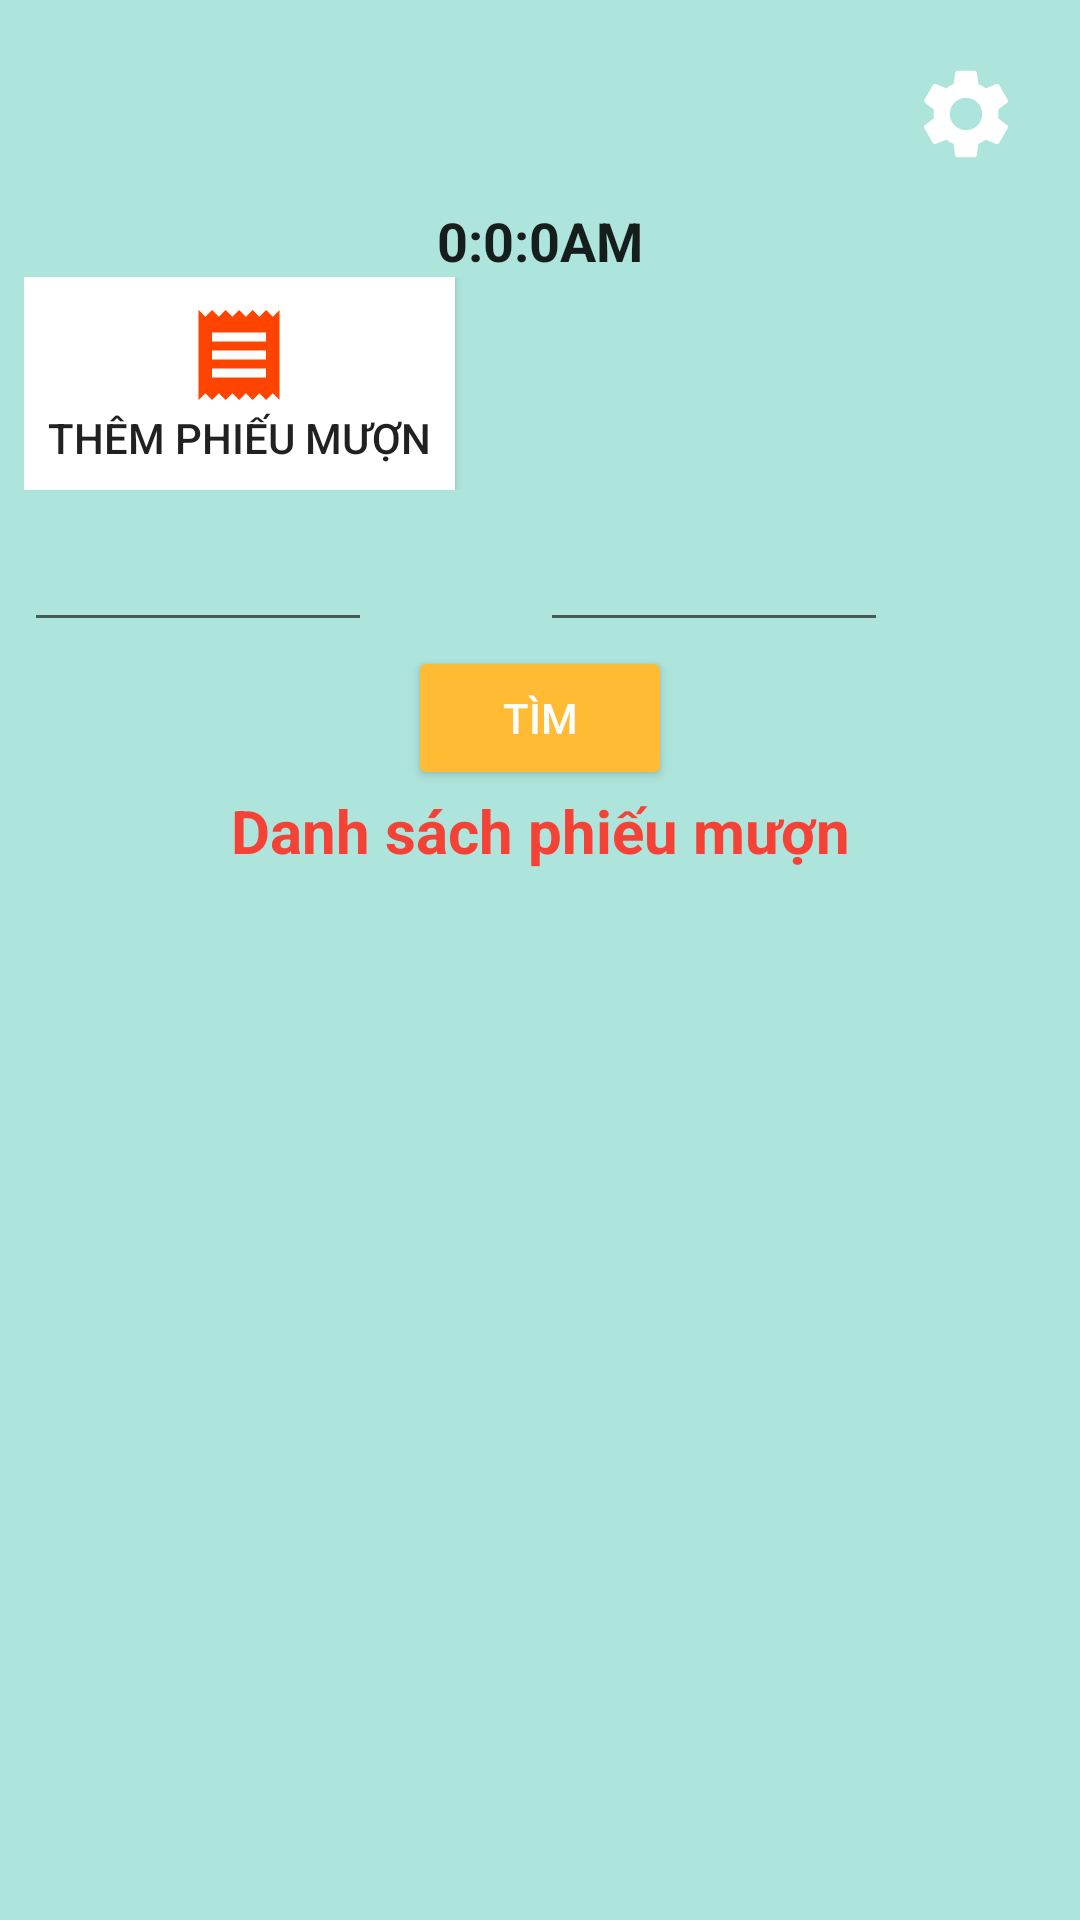

Screen size 1080x1920. Icon name, then its box in pixels as BBox(x1, y1, x2, y2):
settings: BBox(924, 71, 1008, 157)
